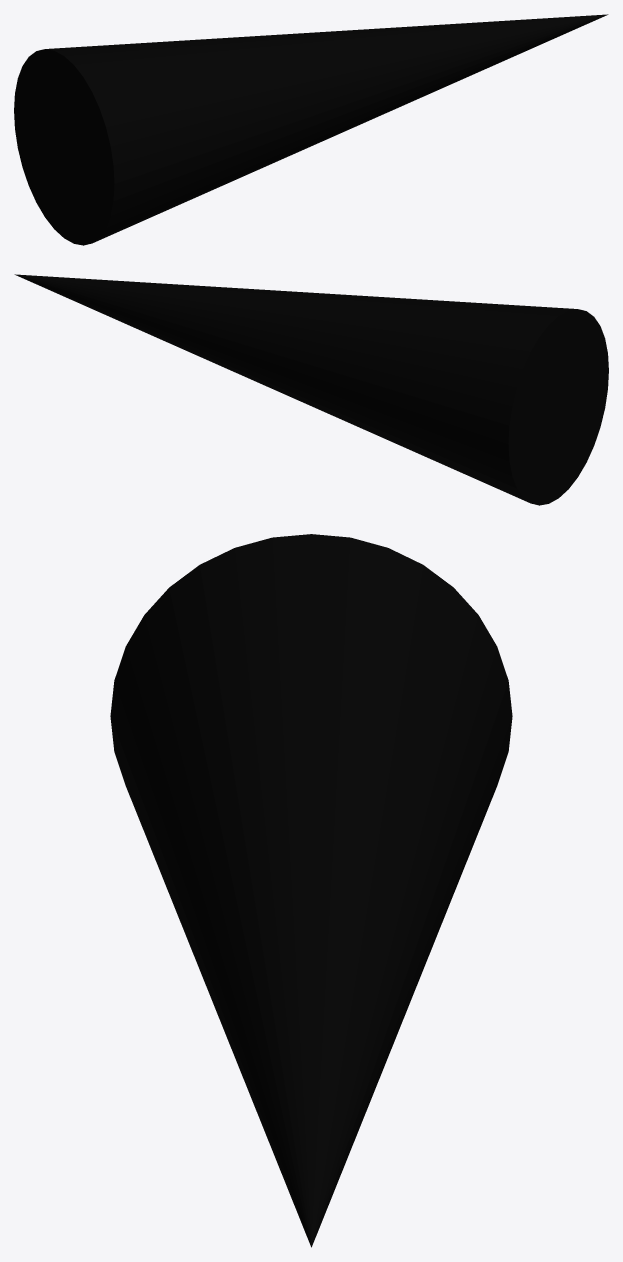
Rendered from proyectil.fbx.
3 views of the same model, one above another, from view 1: azimuth 30°, elevation 25°; view 2: azimuth 150°, elevation 25°; view 3: azimuth 270°, elevation 25° (orthographic). The views are drawn at different scales.
Visible parts, largest first — view 1: Proyectil; view 2: Proyectil; view 3: Proyectil.
Boxes of the visible parts, left/top/right/bottom form: Proyectil: left=14, top=14, right=608, bottom=245; Proyectil: left=14, top=274, right=608, bottom=505; Proyectil: left=110, top=534, right=512, bottom=1247.
Size of the model in its own units: 366 by 117 by 117.
1 material, 1 textured.
